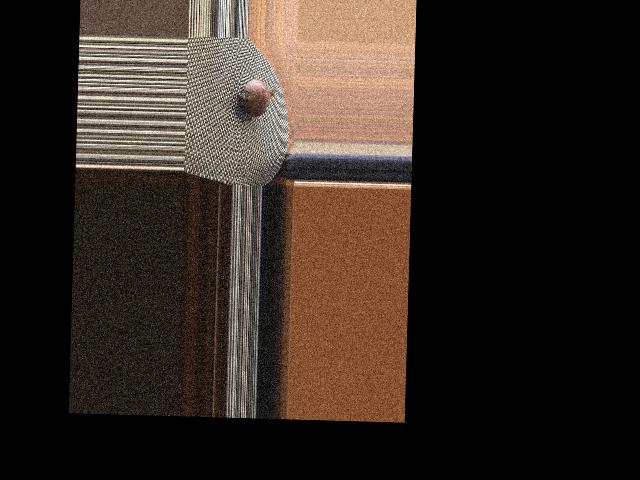beet: (234, 72, 281, 122)
